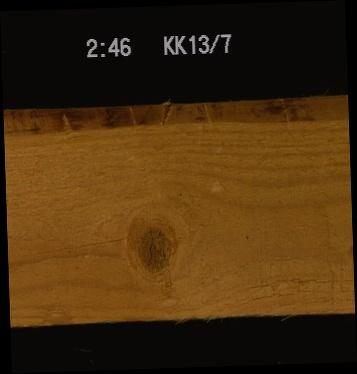sound_knot: (128, 211, 176, 280)
split: (7, 237, 130, 256)
wave: (3, 102, 347, 129)
